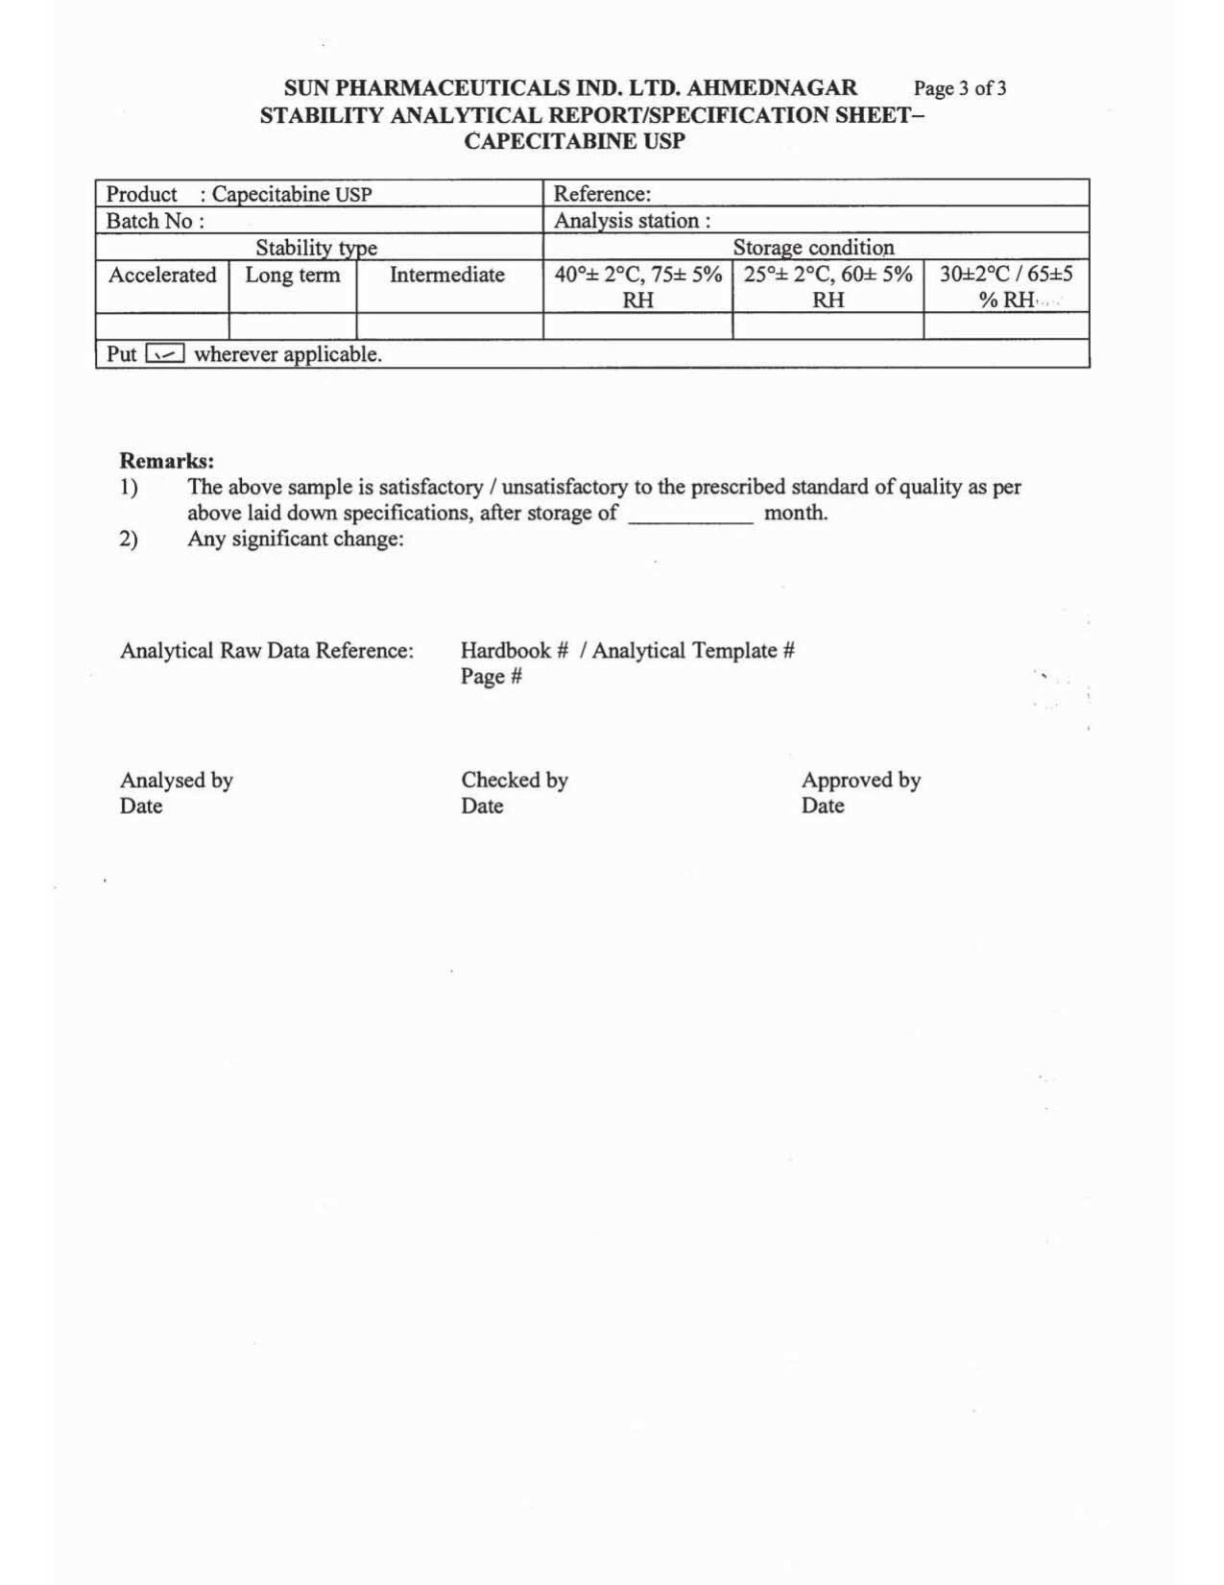merged_cells: (93, 177, 1092, 372)
